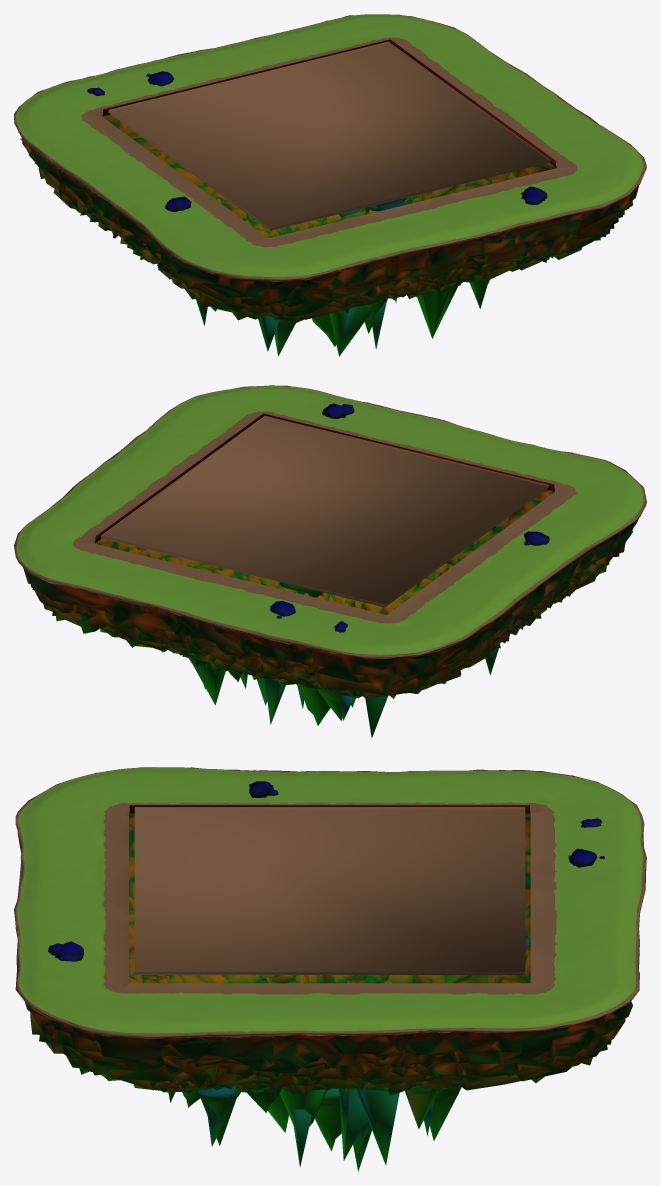
The model's file is SM_Island_L2.glb.
3 renders of one model, top to bottom at view 1: azimuth 30°, elevation 25°; view 2: azimuth 150°, elevation 25°; view 3: azimuth 270°, elevation 25°, orthographic. The views are drawn at different scales.
Parts seen in each view (by area): view 1: SM_Island; view 2: SM_Island; view 3: SM_Island.
Part boxes in pixels (x1=…): SM_Island: x1=14, y1=14, x2=646, y2=356; SM_Island: x1=14, y1=385, x2=646, y2=738; SM_Island: x1=14, y1=767, x2=646, y2=1171.
Bounding box in the file's own units: 78.27 × 35.36 × 77.79.
